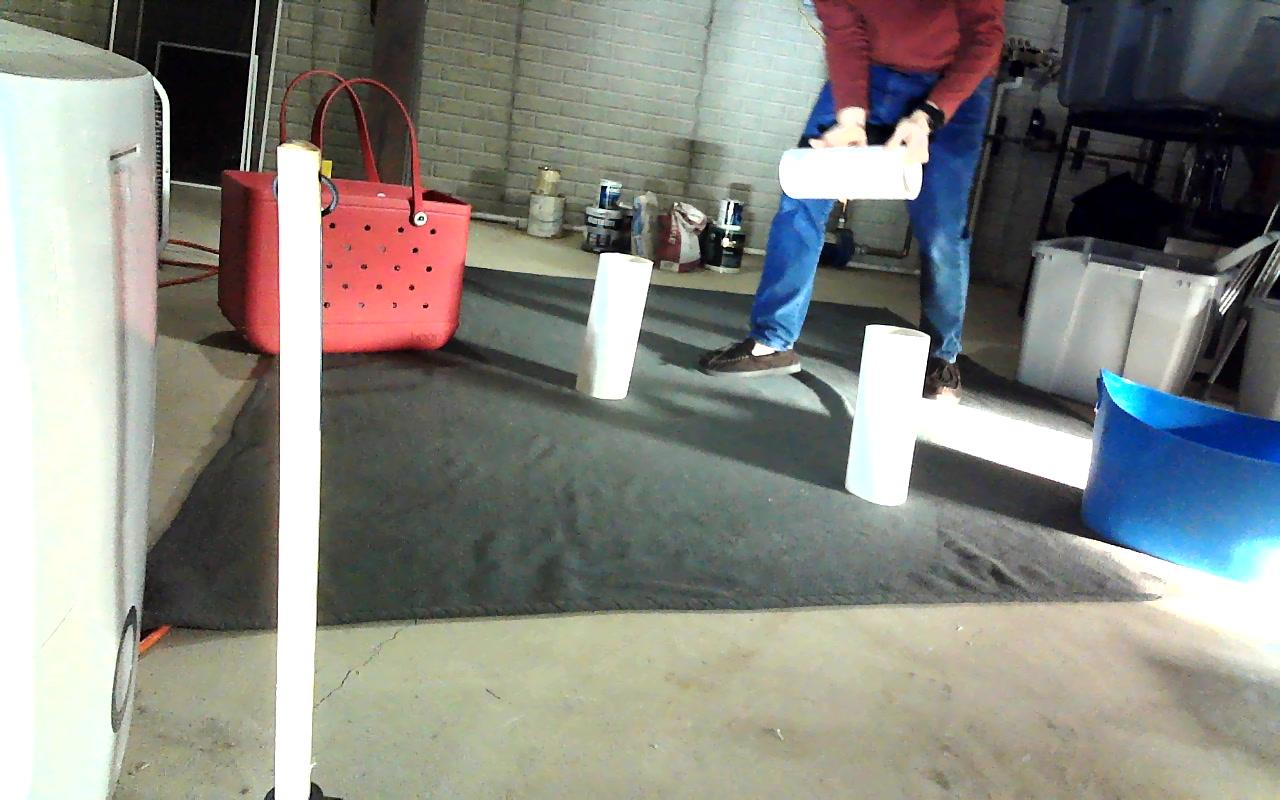coral: (845, 325, 927, 505), (585, 253, 649, 400), (781, 141, 919, 200)
